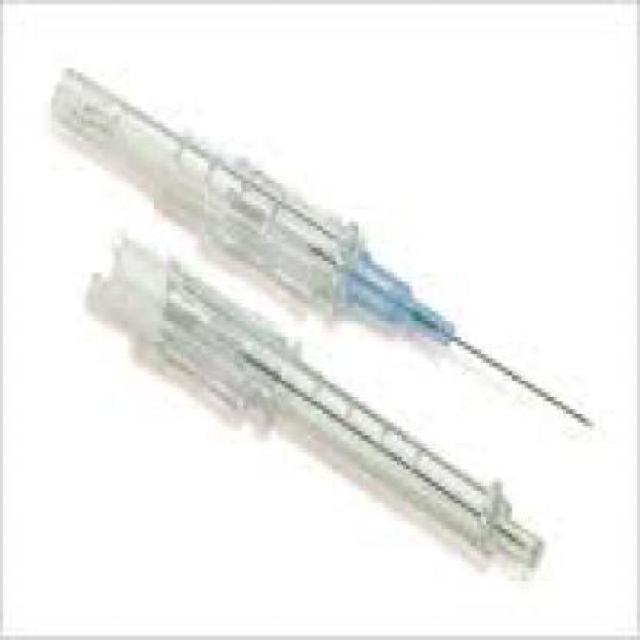B3: (454, 337, 595, 431)
